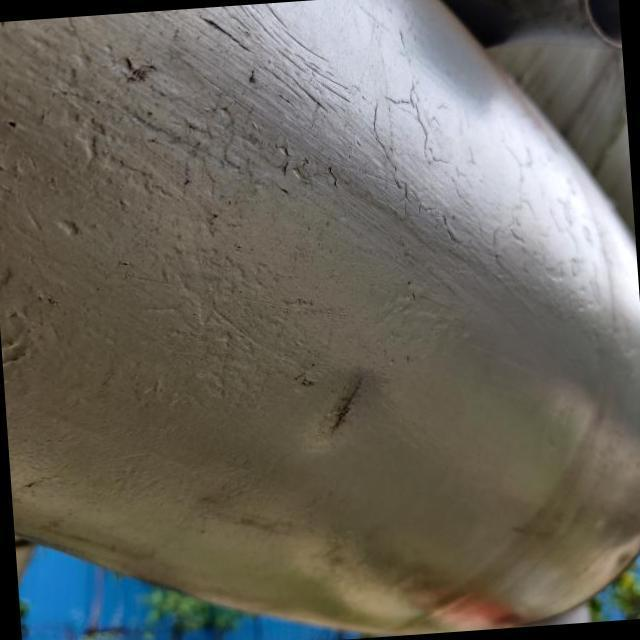dent: (294, 360, 392, 452)
